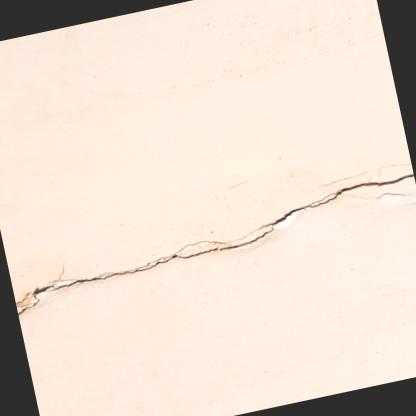crack: (17, 170, 414, 316)
